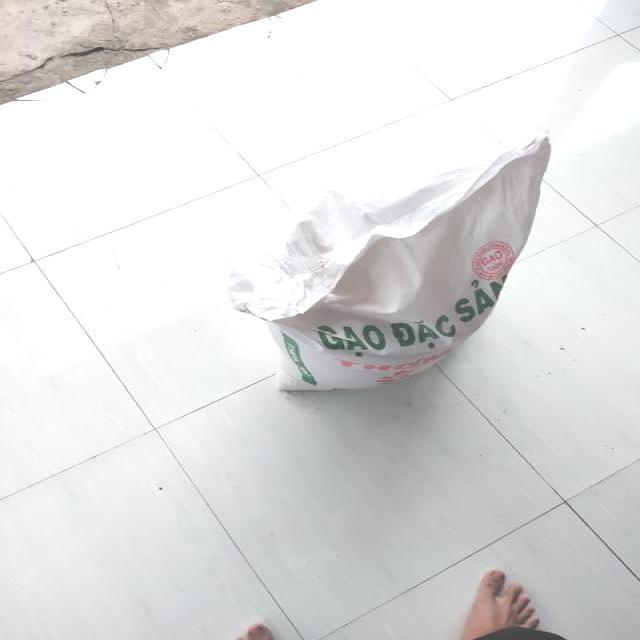gunny_bag: (228, 136, 552, 390)
